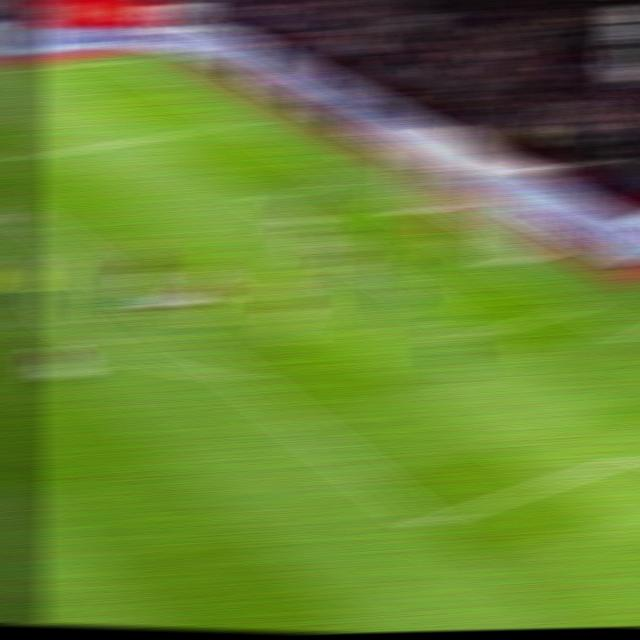bigarea_bottom_inner: (403, 499, 457, 546)
bigarea_top_outter: (223, 117, 255, 130)
bottom_arc_area_intersection: (218, 365, 259, 389)
corner: (105, 55, 140, 64)
smallarea_bottom_inner: (460, 319, 501, 348)
smallarea_bottom_outter: (556, 294, 595, 318)
smallarea_top_inner: (243, 192, 277, 208)
smallarea_top_outter: (325, 174, 362, 191)
top_arc_area_intersection: (58, 244, 91, 259)
